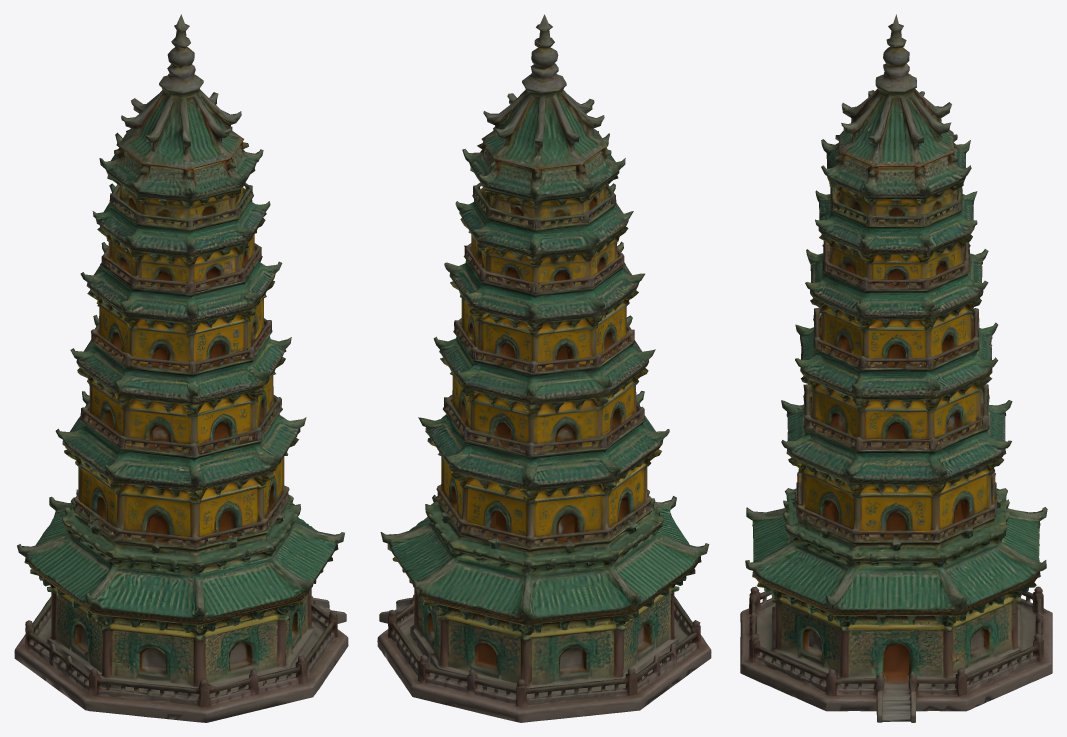
The model's file is building-feihongta.glb.
3 views of the same model, side by side, from view 1: azimuth 30°, elevation 25°; view 2: azimuth 150°, elevation 25°; view 3: azimuth 270°, elevation 25° (orthographic).
Visible parts, largest first — view 1: node_52c3e4de-3ffd-472f-9894-7d464ff0bbd2; view 2: node_52c3e4de-3ffd-472f-9894-7d464ff0bbd2; view 3: node_52c3e4de-3ffd-472f-9894-7d464ff0bbd2.
Boxes of the visible parts, x1,y1,x2,y2 form: node_52c3e4de-3ffd-472f-9894-7d464ff0bbd2: (14, 14, 348, 722); node_52c3e4de-3ffd-472f-9894-7d464ff0bbd2: (377, 14, 711, 722); node_52c3e4de-3ffd-472f-9894-7d464ff0bbd2: (740, 14, 1052, 722).
Size of the model in its own units: 0.471 by 1 by 0.4469.
1 material, 1 textured.
